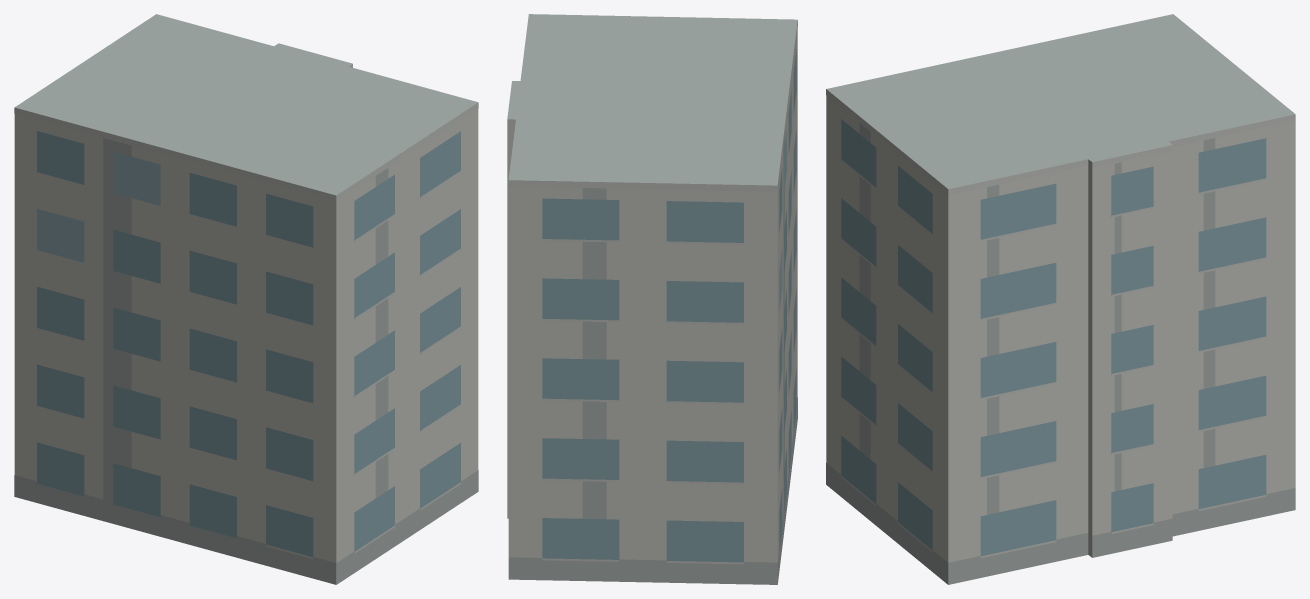
File: residential-adeee9b9-7336-4bfd-a7fb-d7a14ae870bf.glb
The picture shows the model from 3 angles, left to right: view 1: azimuth 30°, elevation 25°; view 2: azimuth 150°, elevation 25°; view 3: azimuth 270°, elevation 25°; orthographic projection. The views are drawn at different scales.
Visible parts, largest first — view 1: residential-adeee9b9-7336-4bfd-a7fb-d7a14ae870bf.tmp; view 2: residential-adeee9b9-7336-4bfd-a7fb-d7a14ae870bf.tmp; view 3: residential-adeee9b9-7336-4bfd-a7fb-d7a14ae870bf.tmp.
Boxes of the visible parts, box(x1,y1,x2,y2) form: residential-adeee9b9-7336-4bfd-a7fb-d7a14ae870bf.tmp: box(14, 14, 478, 584); residential-adeee9b9-7336-4bfd-a7fb-d7a14ae870bf.tmp: box(507, 14, 797, 584); residential-adeee9b9-7336-4bfd-a7fb-d7a14ae870bf.tmp: box(826, 14, 1295, 584).
Size of the model in its own units: 14.49 by 15.25 by 16.41.
